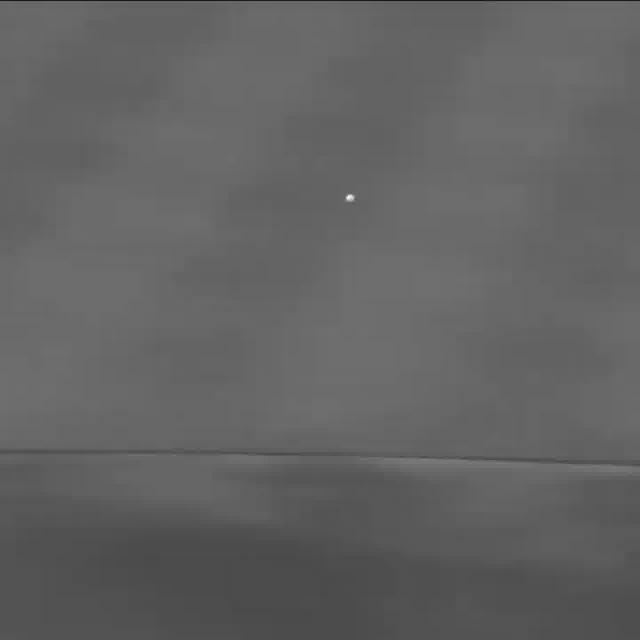baseball: (345, 195, 354, 203)
